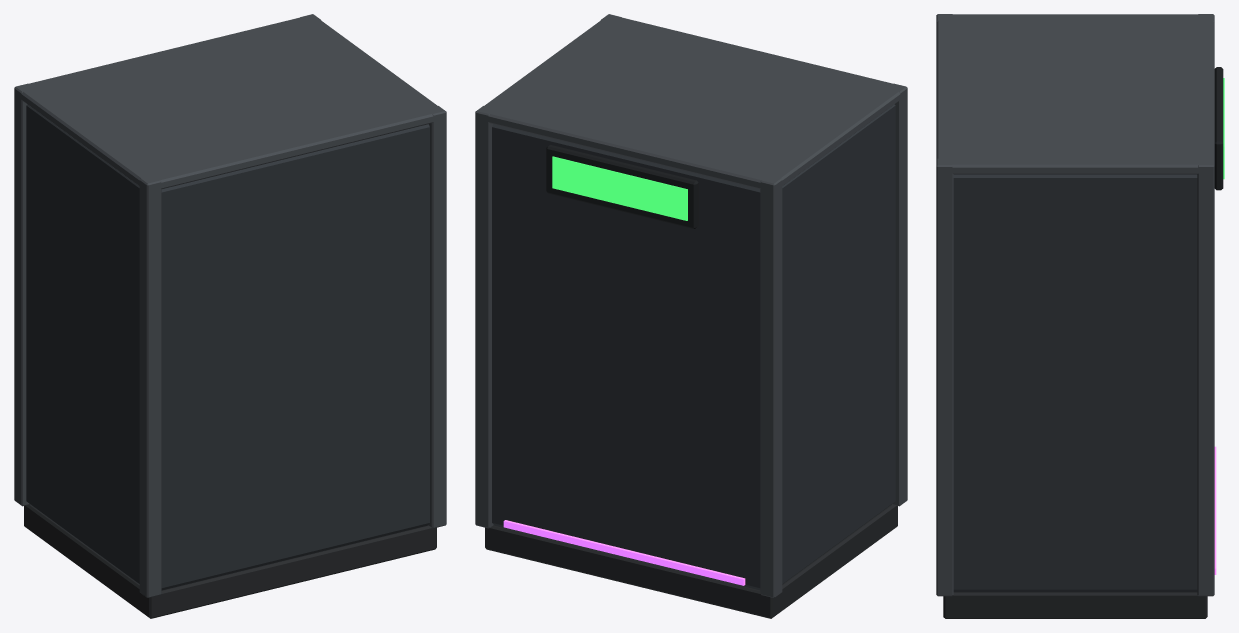
File: signature_damper.glb
The picture shows the model from 3 angles, left to right: view 1: azimuth 30°, elevation 25°; view 2: azimuth 150°, elevation 25°; view 3: azimuth 270°, elevation 25°; orthographic projection. The views are drawn at different scales.
Visible parts, largest first — view 1: signature_damper; view 2: signature_damper; view 3: signature_damper.
Part boxes in pixels (x1,y1,x2,y2): signature_damper: (14,14,446,618); signature_damper: (475,14,907,618); signature_damper: (936,14,1224,618).
Size of the model in its own units: 1 by 1.4 by 0.8.
